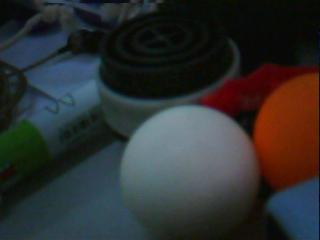oball: (254, 73, 320, 193)
